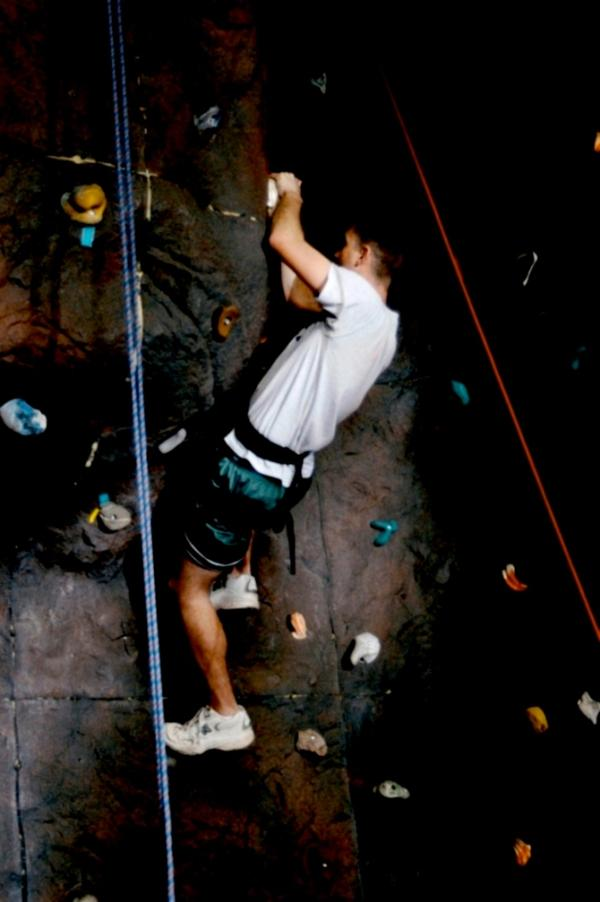person: (161, 173, 399, 756)
